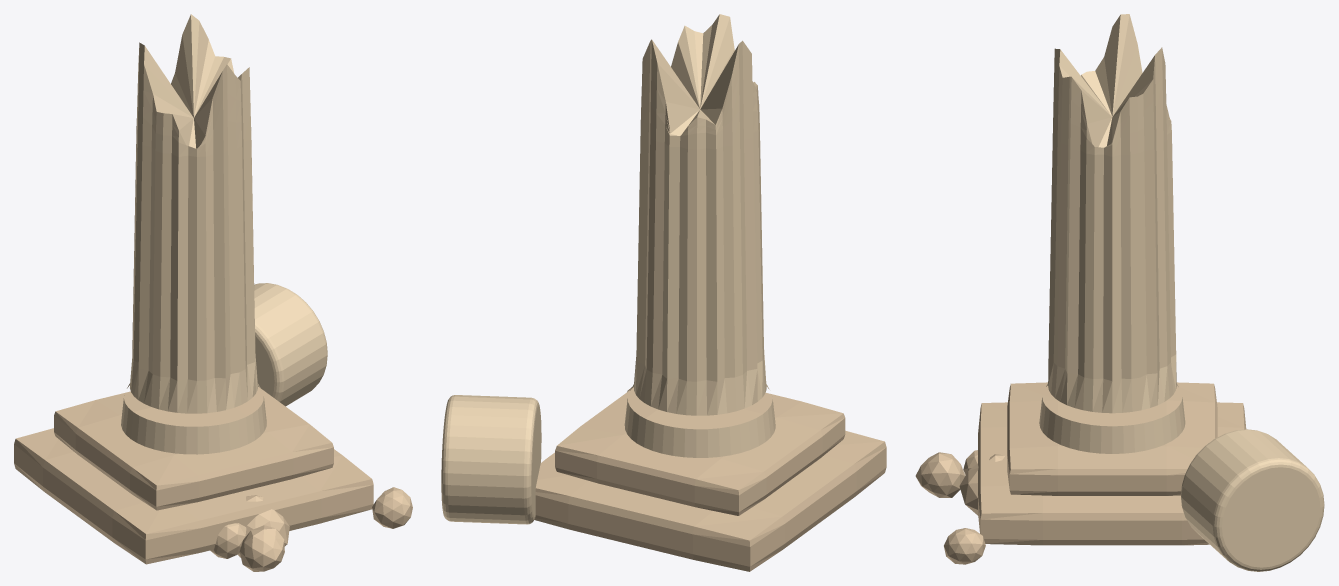
File: SandRuin.glb
The picture shows the model from 3 angles, left to right: view 1: azimuth 30°, elevation 25°; view 2: azimuth 150°, elevation 25°; view 3: azimuth 270°, elevation 25°; orthographic projection. The views are drawn at different scales.
Visible parts, largest first — view 1: Stone, Base; view 2: Stone, Base; view 3: Stone, Base.
Boxes of the visible parts, <box> form: Stone: <box>121,14,327,454</box>; Base: <box>14,386,412,571</box>; Stone: <box>441,14,775,524</box>; Base: <box>534,387,886,571</box>; Stone: <box>1039,14,1324,571</box>; Base: <box>915,382,1246,564</box>.
Size of the model in its own units: 5.98 by 9.02 by 7.
